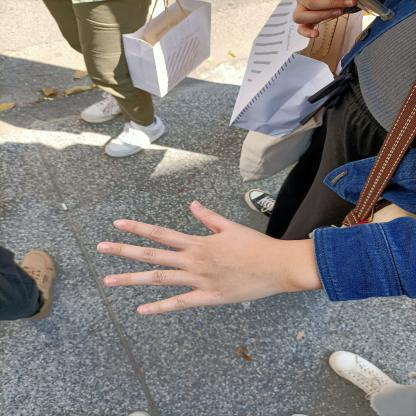bare_hand: (85, 192, 326, 327)
